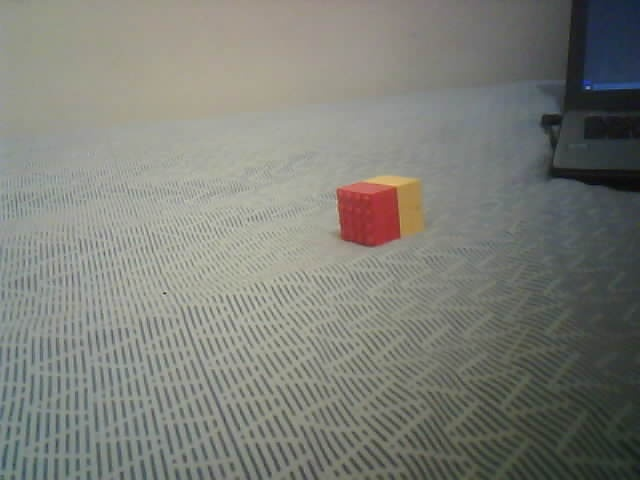lego: (335, 174, 425, 247)
